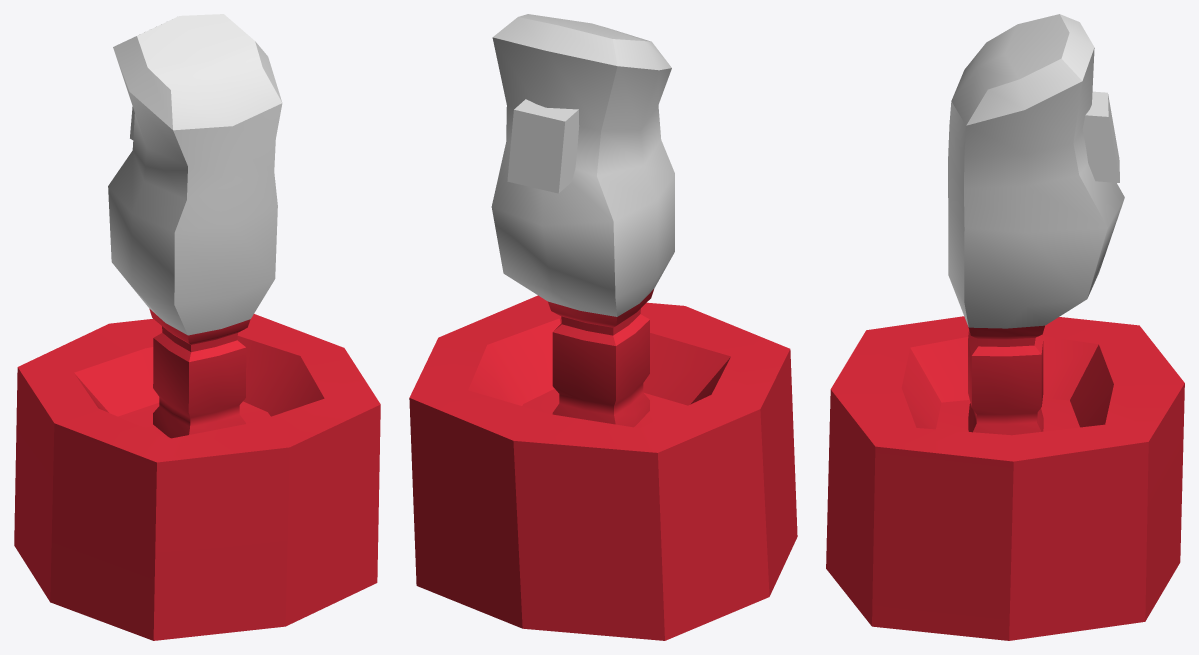
File: JoyStick.fbx
The picture shows the model from 3 angles, left to right: view 1: azimuth 30°, elevation 25°; view 2: azimuth 150°, elevation 25°; view 3: azimuth 270°, elevation 25°; orthographic projection. The views are drawn at different scales.
Parts seen in each view (by area): view 1: flightstick base, flight stick; view 2: flightstick base, flight stick, strick trigger; view 3: flightstick base, flight stick, strick trigger.
Boxes of the visible parts, box(x1,y1,x2,y2) form: flightstick base: box(14, 314, 380, 640); flight stick: box(108, 14, 282, 438); flightstick base: box(409, 295, 797, 640); flight stick: box(491, 14, 674, 427); strick trigger: box(507, 99, 579, 193); flightstick base: box(826, 316, 1184, 640); flight stick: box(948, 14, 1124, 435); strick trigger: box(1082, 91, 1119, 182).
Size of the model in its own units: 86.15 by 142 by 85.44.
